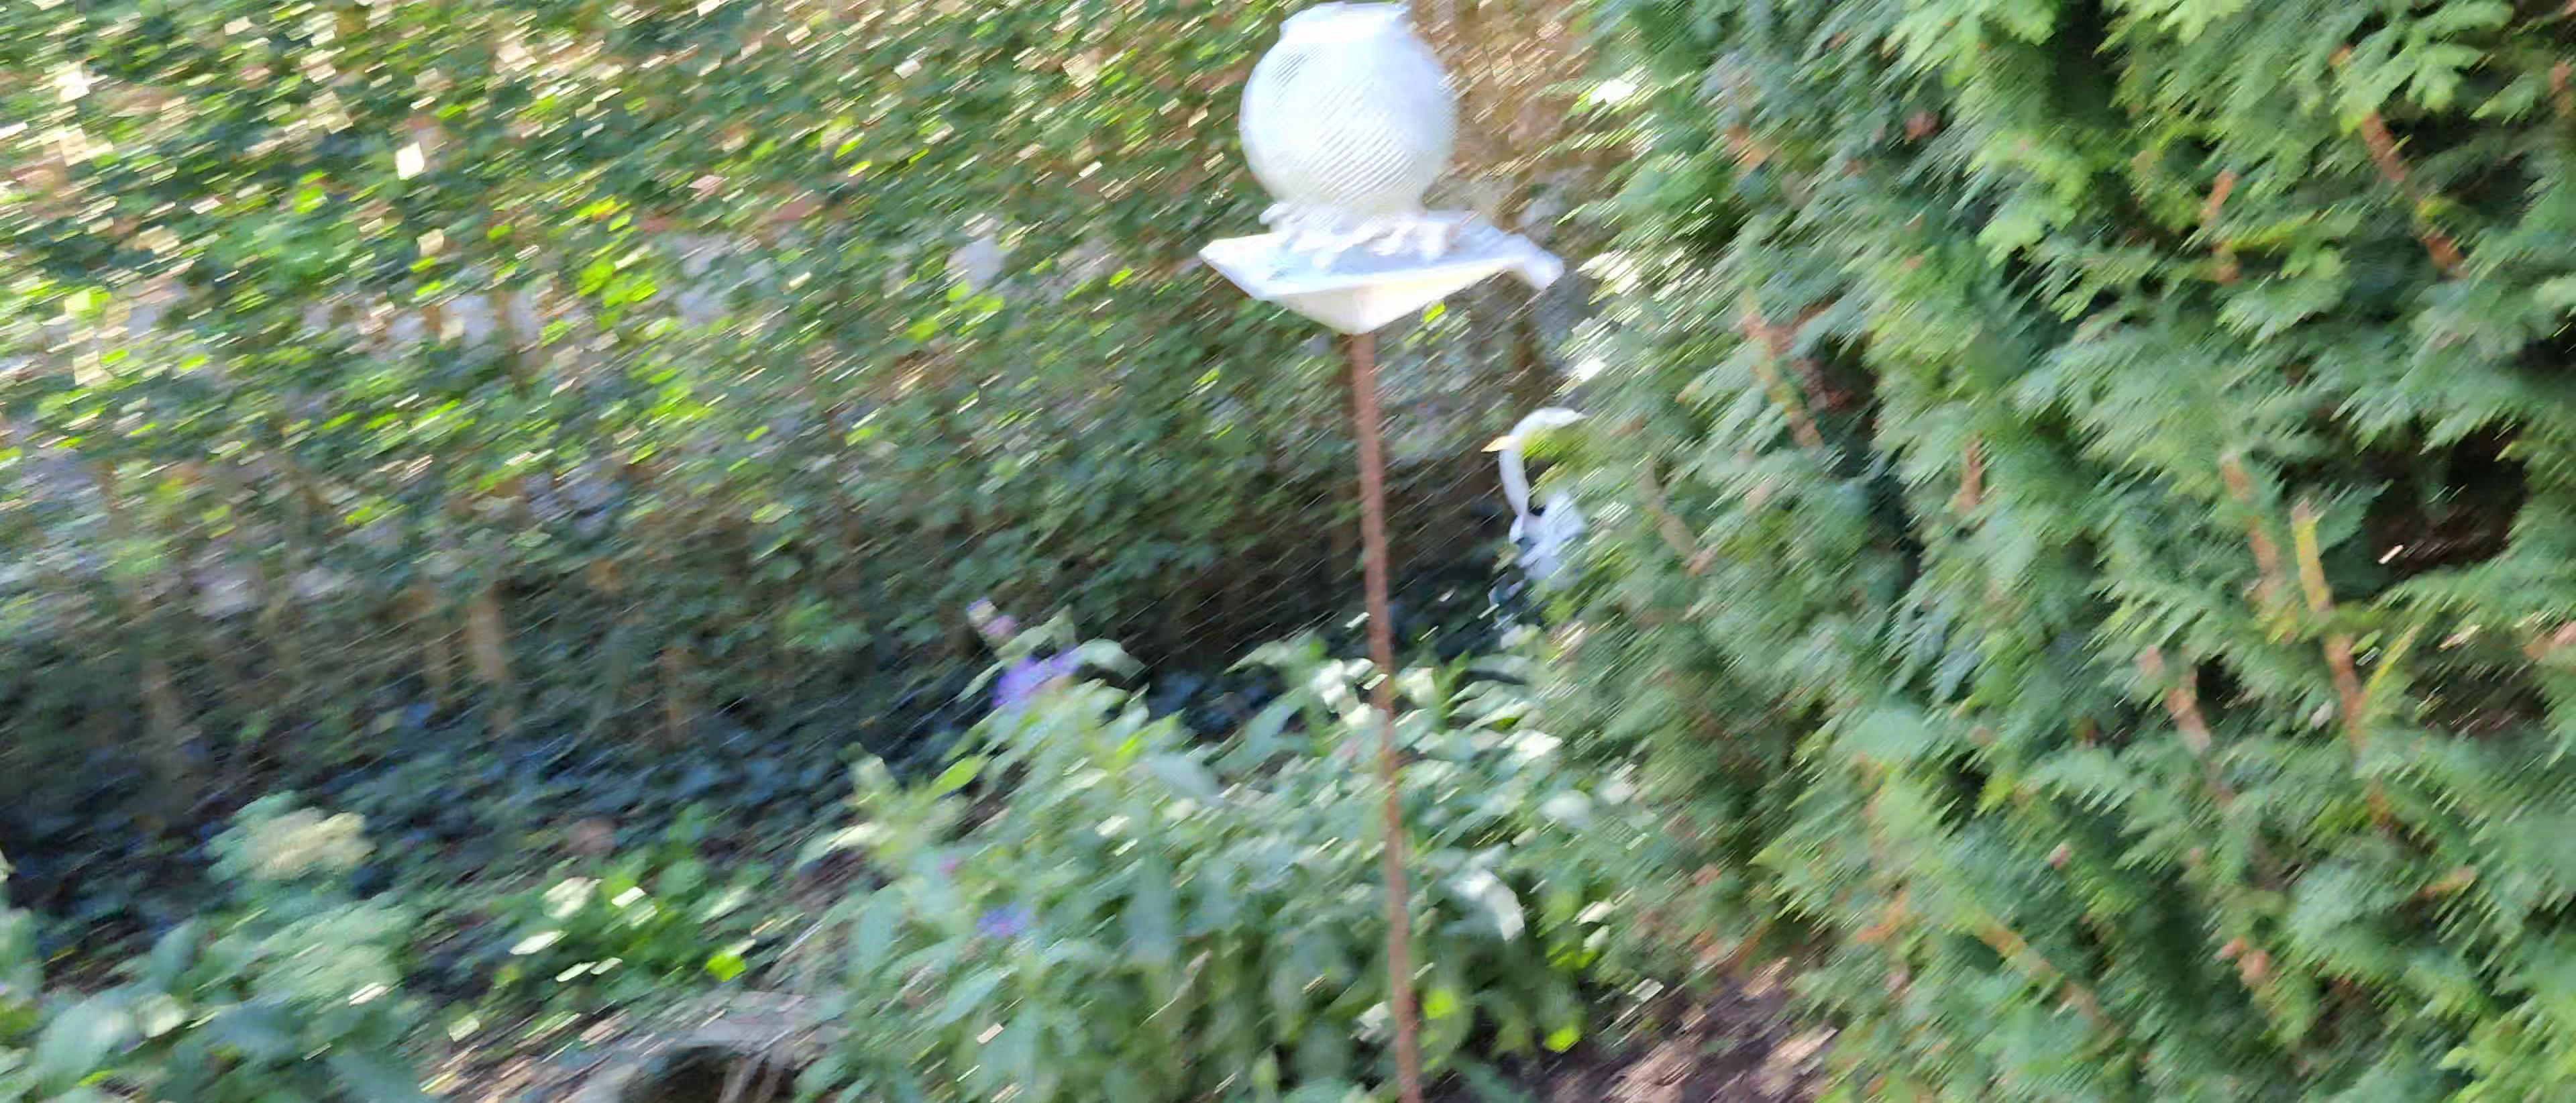Dog: (1480, 391, 1669, 608)
